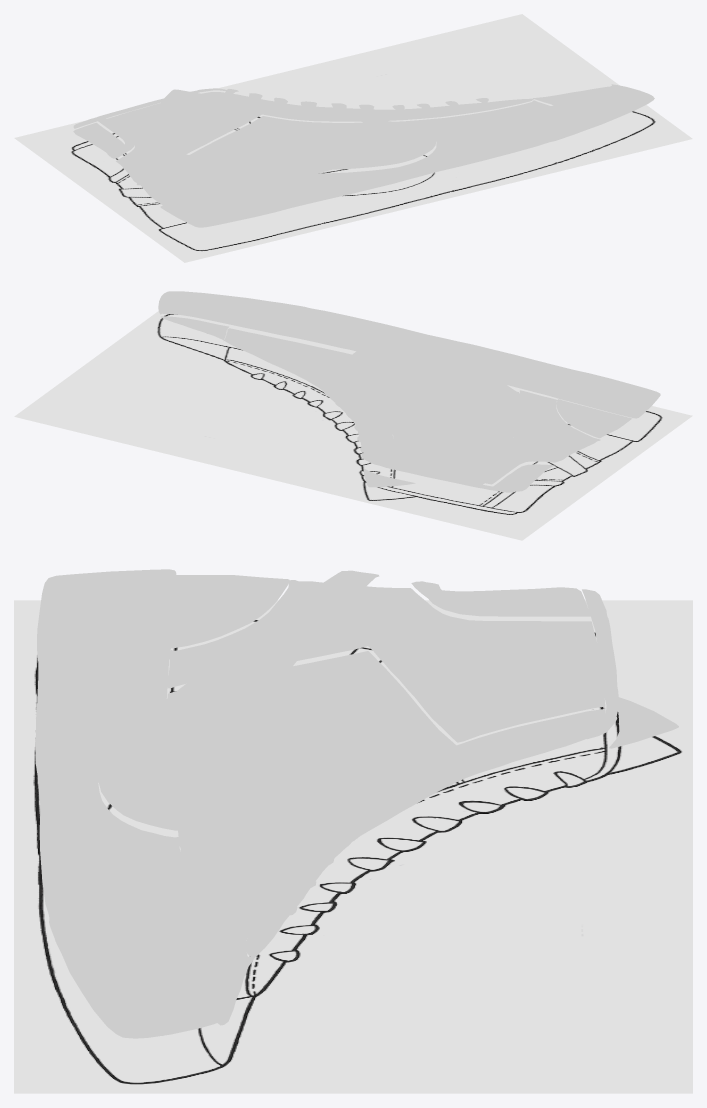
The model's file is NikeBlazerMidOffWhite.FBX.
The picture shows the model from 3 angles, top to bottom: view 1: azimuth 30°, elevation 25°; view 2: azimuth 150°, elevation 25°; view 3: azimuth 270°, elevation 25°; orthographic projection. The views are drawn at different scales.
Parts seen in each view (by area): view 1: Plane001, Line001, Line006, Line004, Line009, Line013, Line002, Line023, Line008, Line011, Line010, Line007; view 2: Plane001, Line001, Line009, Line006, Line004, Line013, Line002, Line023, Line008, Line011, Line010, Line007 (+1 smaller); view 3: Plane001, Line001, Line009, Line006, Line004, Line013, Line002, Line023, Line008, Line010, Line011, Line007 (+1 smaller).
Boxes of the visible parts, x1,y1,x2,y2 form: Plane001: [14, 14, 692, 262]; Line001: [160, 84, 654, 227]; Line006: [107, 95, 276, 187]; Line004: [121, 118, 436, 171]; Line009: [189, 100, 550, 179]; Line013: [191, 92, 533, 121]; Line002: [139, 180, 238, 205]; Line023: [224, 89, 488, 112]; Line008: [73, 122, 124, 156]; Line011: [73, 88, 226, 128]; Line010: [533, 86, 609, 105]; Line007: [96, 117, 134, 158]; Plane001: [14, 311, 692, 540]; Line001: [158, 291, 660, 418]; Line009: [223, 328, 519, 437]; Line006: [391, 390, 600, 484]; Line004: [351, 342, 585, 449]; Line013: [223, 339, 394, 465]; Line002: [556, 399, 632, 438]; Line023: [251, 350, 378, 452]; Line008: [493, 464, 554, 491]; Line011: [361, 454, 516, 492]; Line010: [160, 316, 228, 339]; Line007: [483, 456, 562, 484]; Plane001: [14, 600, 692, 1093]; Line001: [35, 569, 223, 1038]; Line009: [167, 651, 456, 964]; Line006: [167, 580, 605, 742]; Line004: [98, 570, 379, 830]; Line013: [246, 709, 605, 956]; Line002: [171, 575, 289, 648]; Line023: [270, 726, 585, 915]; Line008: [442, 587, 587, 608]; Line010: [197, 956, 255, 1025]; Line011: [582, 589, 618, 739]; Line007: [411, 581, 591, 616].
Size of the model in its own units: 251 by 13.36 by 146.
